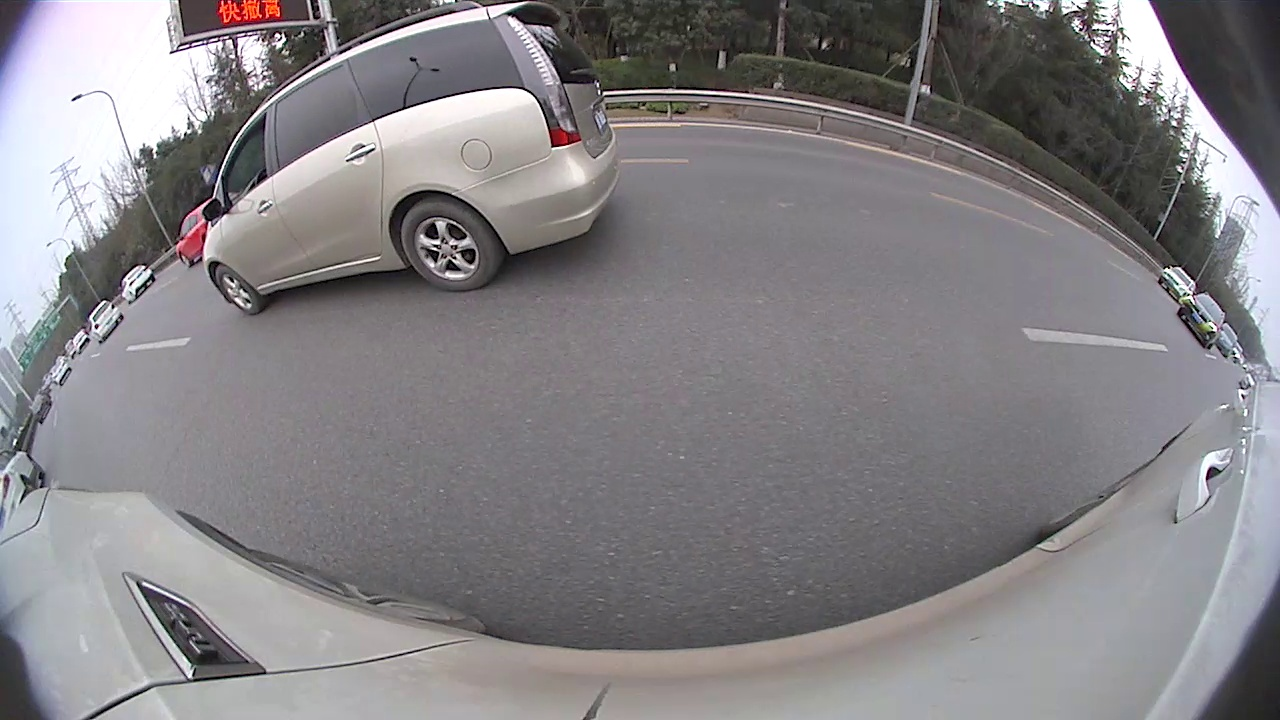car: (200, 1, 623, 316), (174, 197, 229, 269), (1, 448, 48, 529), (1177, 290, 1227, 351), (87, 298, 125, 344), (1157, 263, 1198, 303), (119, 262, 156, 304), (1212, 321, 1240, 359), (49, 361, 73, 387)
front: (215, 264, 262, 314)
rear: (401, 205, 493, 291)
